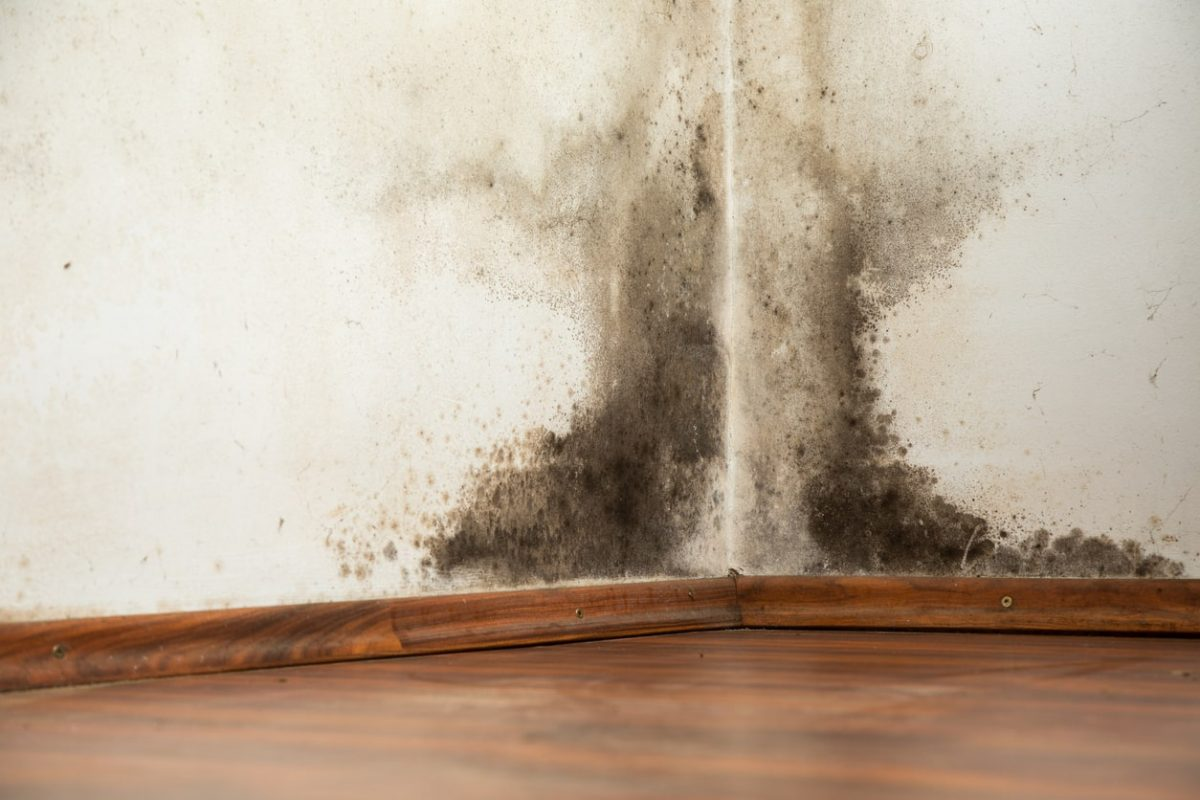schimmel: (780, 267, 951, 570), (620, 215, 728, 574), (514, 428, 611, 576), (962, 518, 1170, 576), (433, 517, 499, 584)
